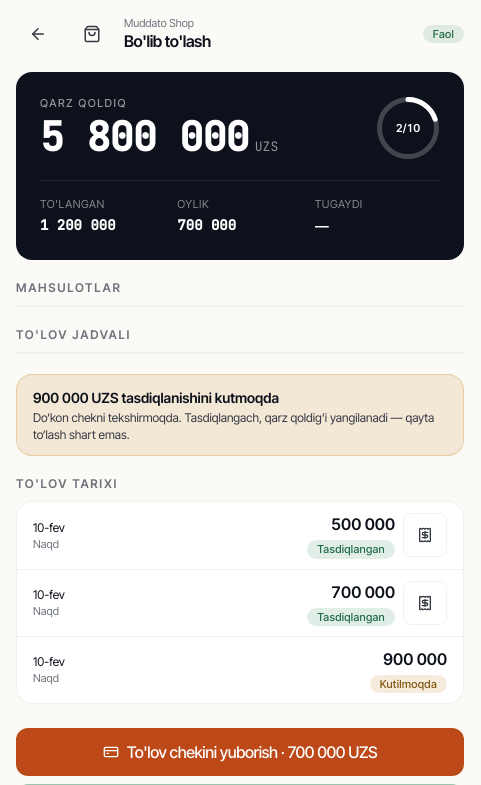
Test case: LX-01 · receipt PDF, one independent state per payment › sending one receipt leaves the other actionable
This screenshot has width=481, height=785.
Click the button named "Chekni yuklab olish (PDF): 500 000".
click(425, 535)  # box top-left (403, 513), bottom-right (447, 557)
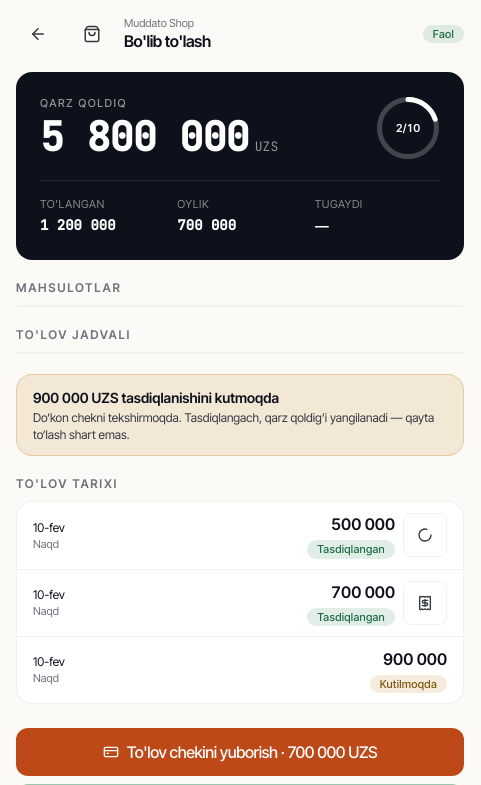
Expected: the button named "Chekni yuklab olish (PDF): 700 000" is enabled, top-left (403, 581), bottom-right (447, 625)
Expected: the button named "Chek yuborilmoqda (PDF): 500 000" is disabled, top-left (403, 513), bottom-right (447, 557)
